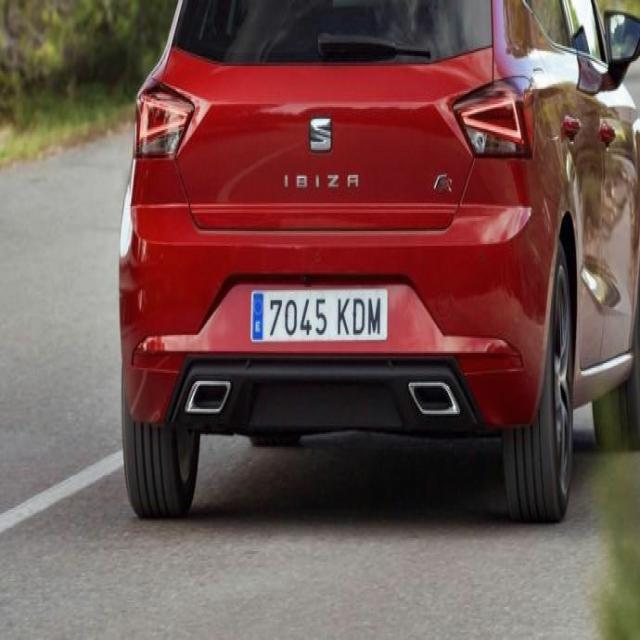football: (251, 291, 387, 342)
